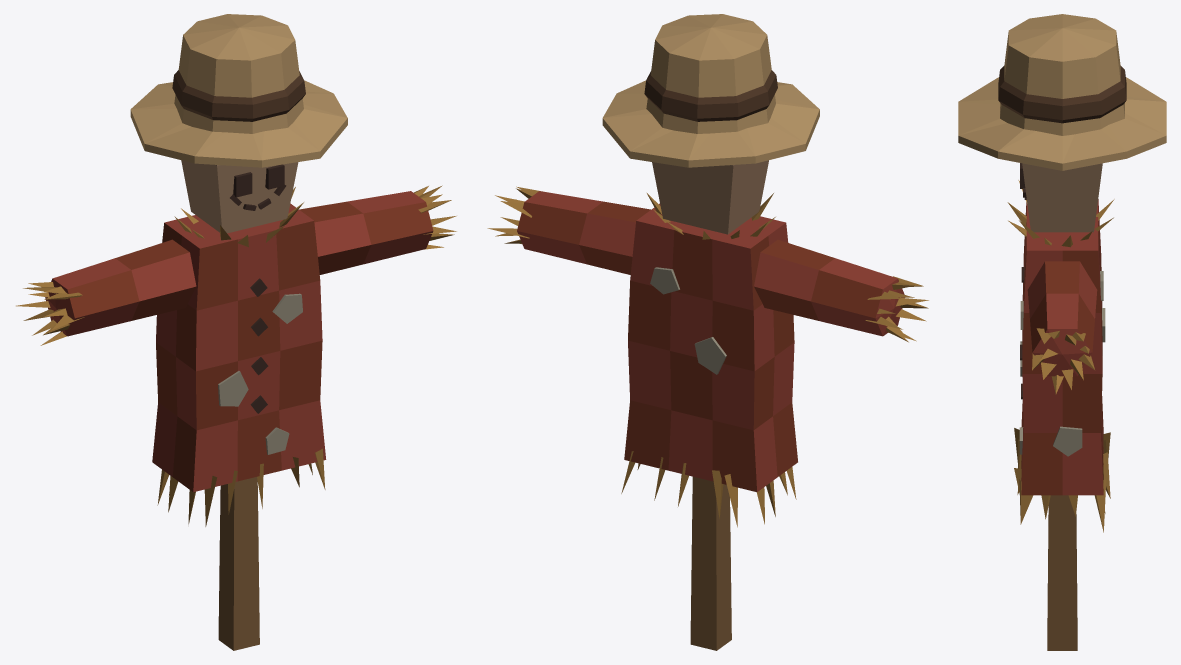
The model's file is scarecrow-334079.glb.
3 views of the same model, side by side, from view 1: azimuth 30°, elevation 25°; view 2: azimuth 150°, elevation 25°; view 3: azimuth 270°, elevation 25° (orthographic).
Visible parts, largest first — view 1: scarecrow-body, scarecrow-hat; view 2: scarecrow-body, scarecrow-hat; view 3: scarecrow-body, scarecrow-hat.
Part boxes in pixels (box(x1,y1,x2,y2)): scarecrow-body: box(16, 160, 456, 650); scarecrow-hat: box(130, 14, 347, 167); scarecrow-body: box(487, 160, 928, 650); scarecrow-hat: box(602, 14, 819, 167); scarecrow-body: box(1007, 163, 1114, 650); scarecrow-hat: box(958, 14, 1166, 170).
Bounding box in the file's own units: 1.36 × 1.9 × 0.582.
